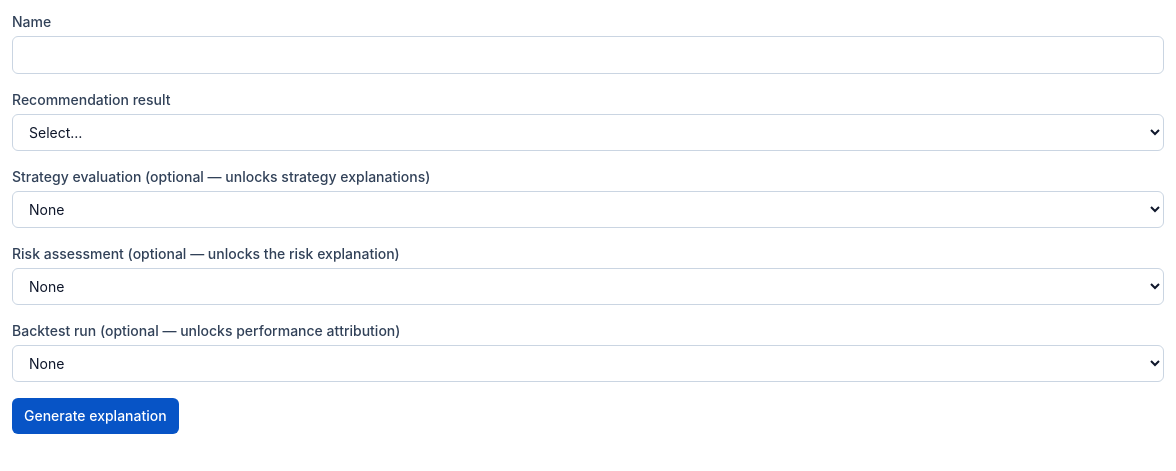
Test case: GenerateExplanationForm › requires selecting a recommendation result before submitting
In the field labelled "Name": {"x": 588, "y": 55} [12,36,1164,74], type "Why AAPL"
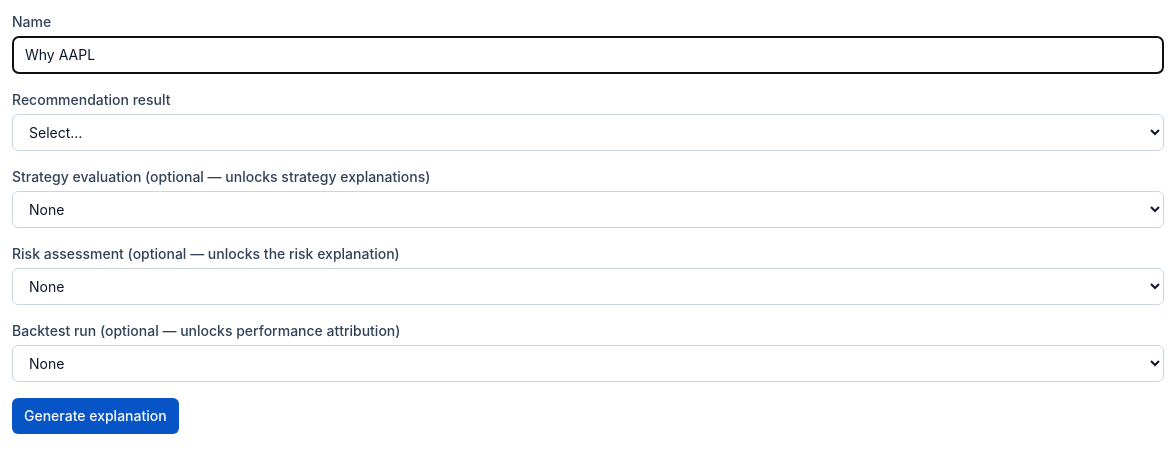
Click the button "Generate explanation": {"x": 95, "y": 416} [12,398,179,434]
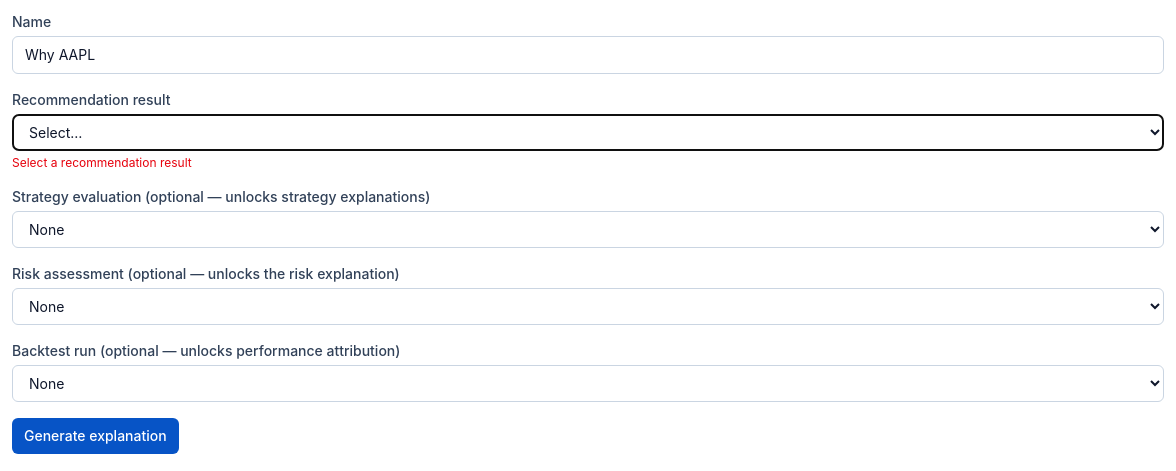
Result: the text "Select a recommendation result" is shown at [12,155,192,170]
